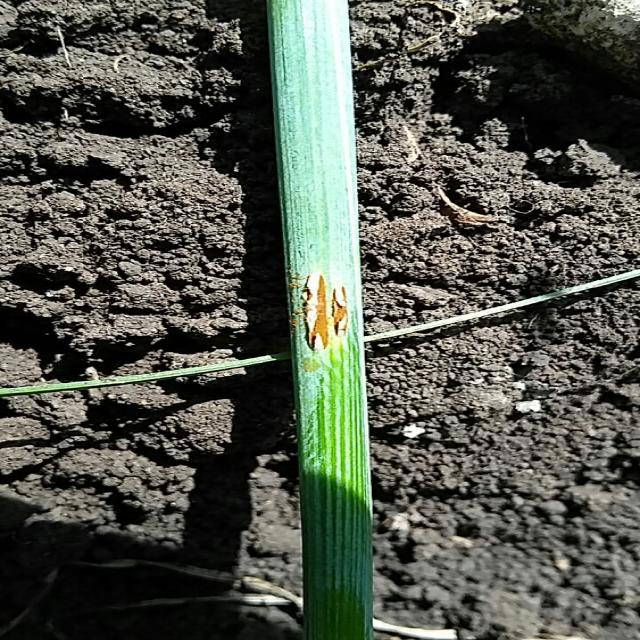wheat-stemrust: (286, 230, 365, 411)
